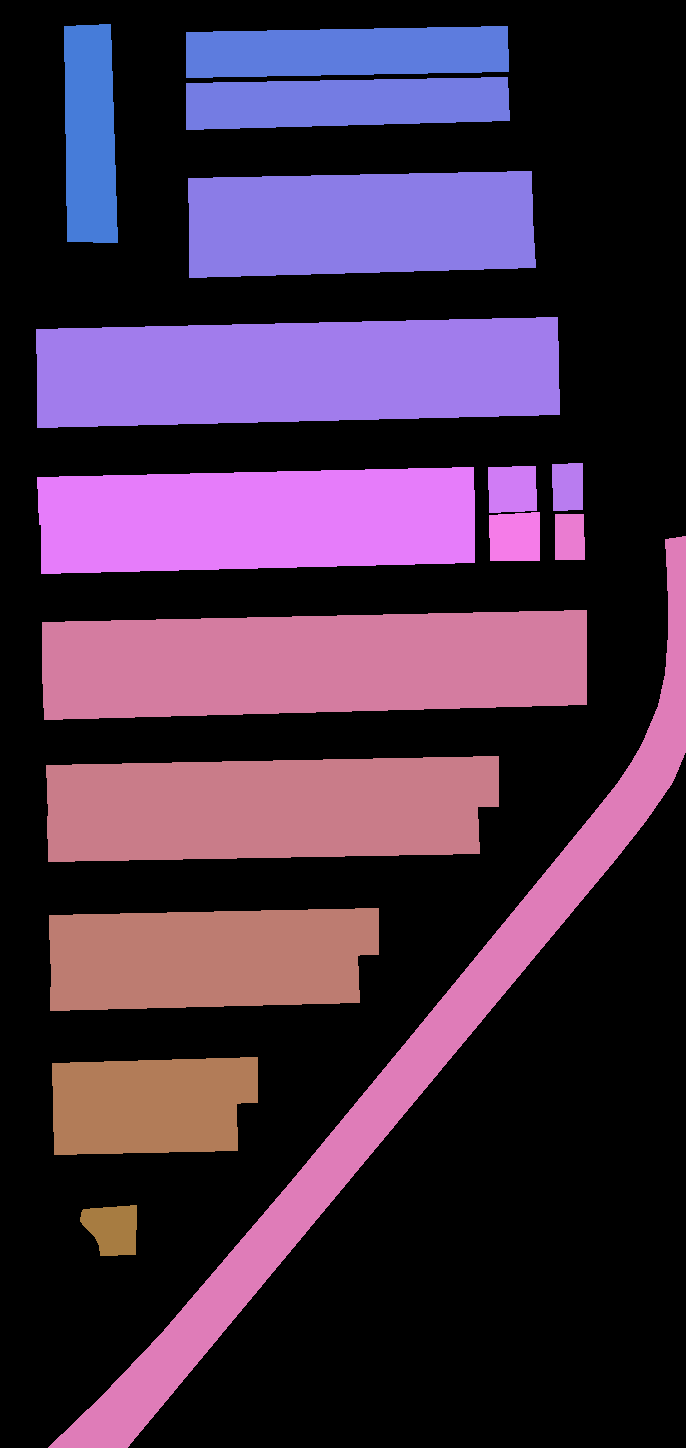parkingspot: (47, 536, 686, 1448), (42, 656, 586, 719), (37, 364, 559, 427), (42, 610, 586, 670), (36, 317, 558, 377), (46, 756, 498, 816), (41, 512, 474, 573), (37, 467, 474, 524), (47, 807, 479, 861), (189, 217, 535, 277), (188, 171, 532, 227), (49, 908, 378, 963), (50, 954, 359, 1010), (186, 77, 509, 129), (186, 26, 508, 77), (64, 24, 117, 242), (52, 1057, 257, 1108), (53, 1102, 237, 1154), (80, 1205, 136, 1255), (489, 512, 539, 560), (488, 466, 536, 512), (552, 463, 582, 510), (555, 514, 584, 559)
